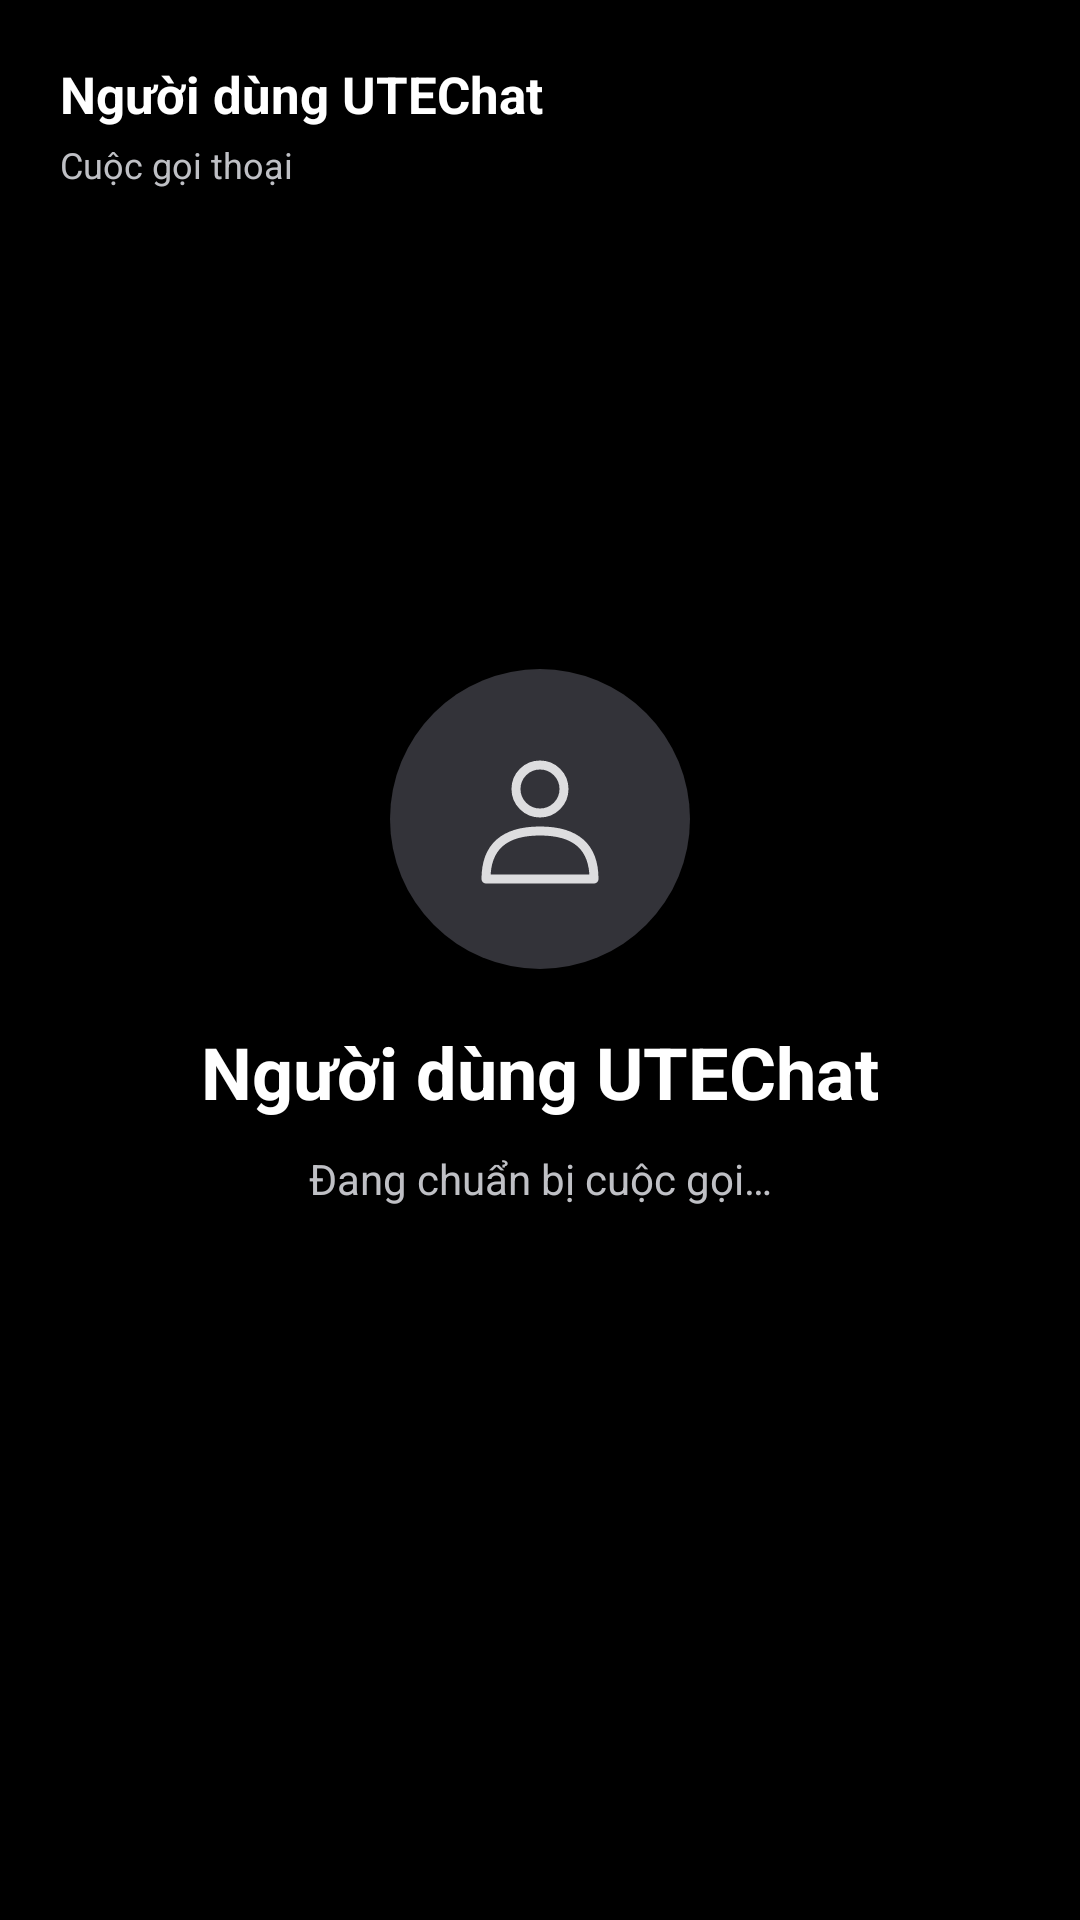

Icon bounding boxes for this 1080x1920 phone screenshot, format (x1, y1, x2, y2):
Ảnh đại diện: (390, 669, 690, 969)
